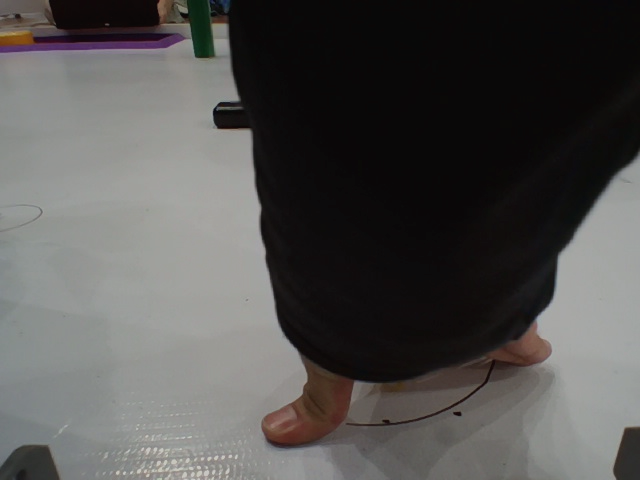black: (212, 98, 266, 128)
kuang: (1, 25, 189, 52)
yellow: (1, 28, 41, 48)
zhuzi: (185, 1, 217, 64)
